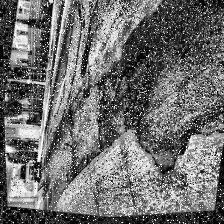pothole: (114, 49, 156, 135), (90, 72, 120, 126)
